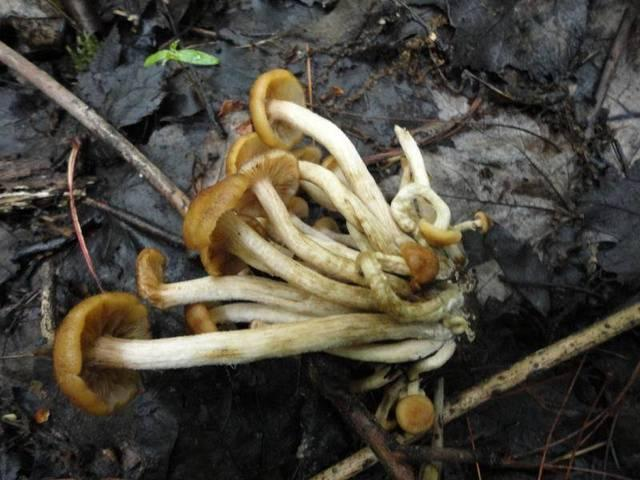edible_mushroom: (52, 66, 489, 431), (51, 290, 151, 416)
